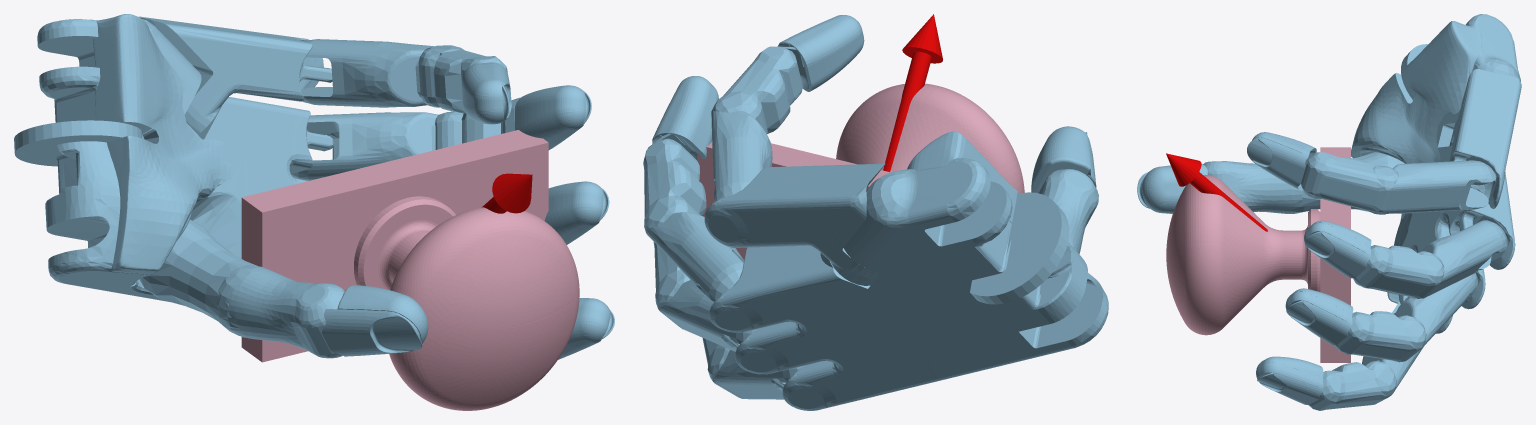
3 views of the same model, side by side, from view 1: azimuth 30°, elevation 25°; view 2: azimuth 150°, elevation 25°; view 3: azimuth 270°, elevation 25° (orthographic). The views are drawn at different scales.
Visible parts, largest first — view 1: world, door_knob.stl; view 2: world, door_knob.stl; view 3: world, door_knob.stl.
Part boxes in pixels (box(x1,y1,x2,y2)): world: box(14, 14, 614, 359); door_knob.stl: box(241, 130, 579, 410); world: box(643, 14, 1108, 410); door_knob.stl: box(697, 83, 1024, 259); world: box(1137, 14, 1521, 410); door_knob.stl: box(1166, 147, 1350, 362).
Size of the model in its own units: 0.1713 by 0.1265 by 0.156.
